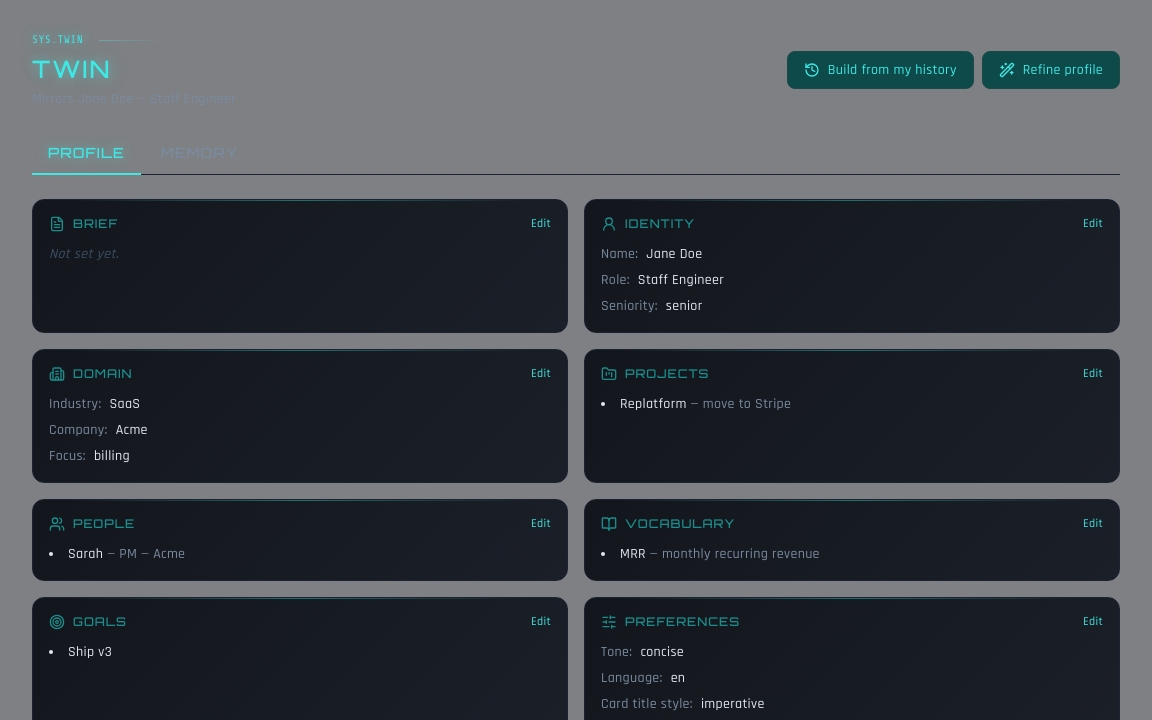
Test: TwinPage — Memory tab (the tiered memory graph) › shows the empty-state explainer and a "0" count badge when no facts exist yet
Expected: the text "Jane Doe" is shown, top-left (646, 244), bottom-right (702, 264)
Click the tab "Memory": {"x": 200, "y": 154} top-left (145, 132), bottom-right (254, 174)
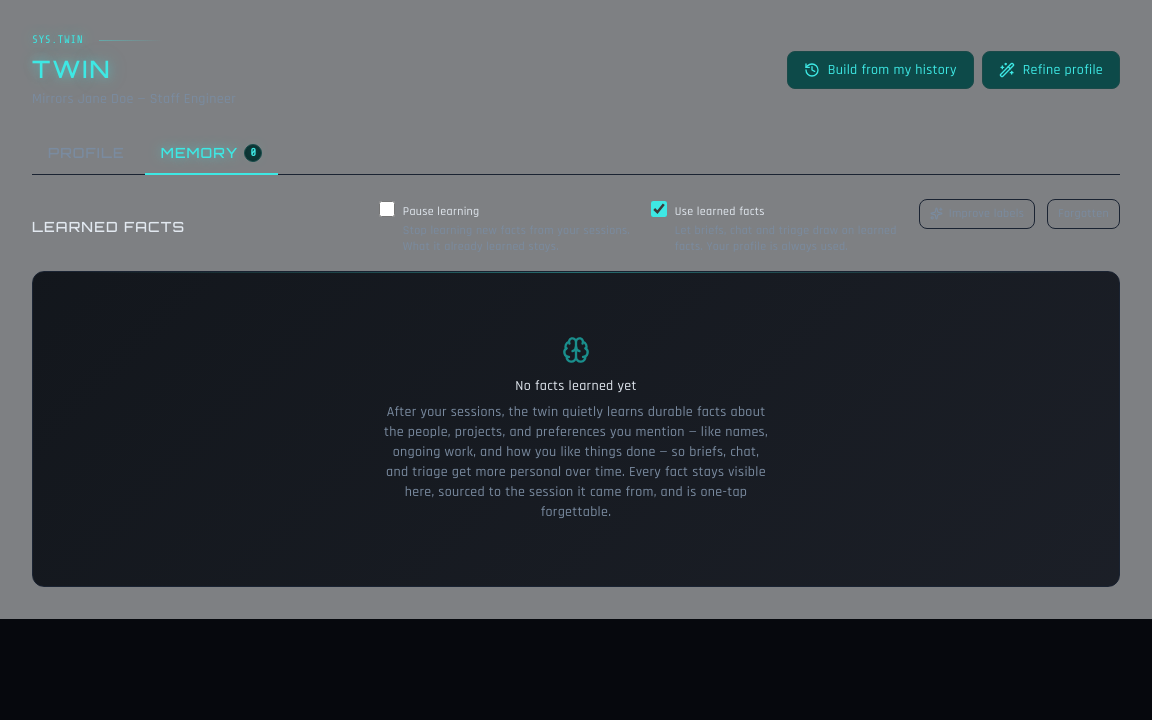
Result: the heading "No facts learned yet" is shown at top-left (515, 376), bottom-right (637, 396)
Result: the tab "Memory 0" is shown at top-left (145, 132), bottom-right (278, 174)
